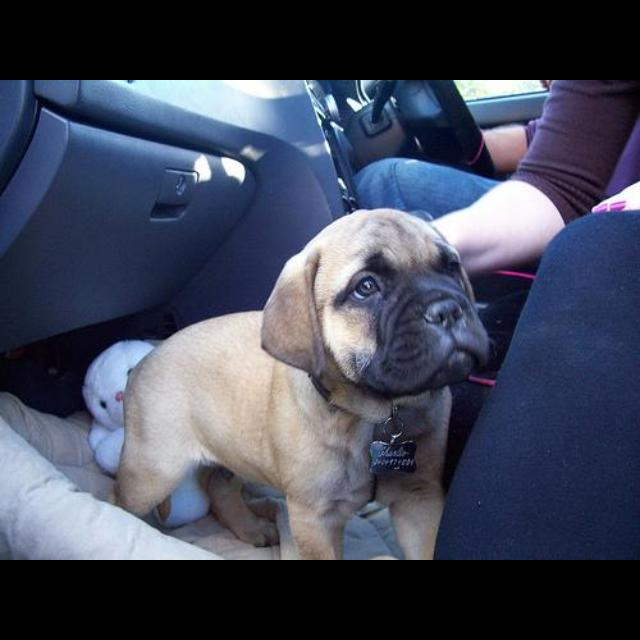bullmastiff: (111, 207, 493, 560)
